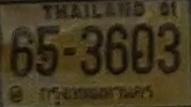0: (130, 24, 154, 75)
3: (79, 26, 102, 76), (158, 24, 180, 75)
5: (36, 25, 60, 75)
6: (9, 26, 33, 76), (105, 24, 127, 75)
BKK: (35, 81, 157, 106)
